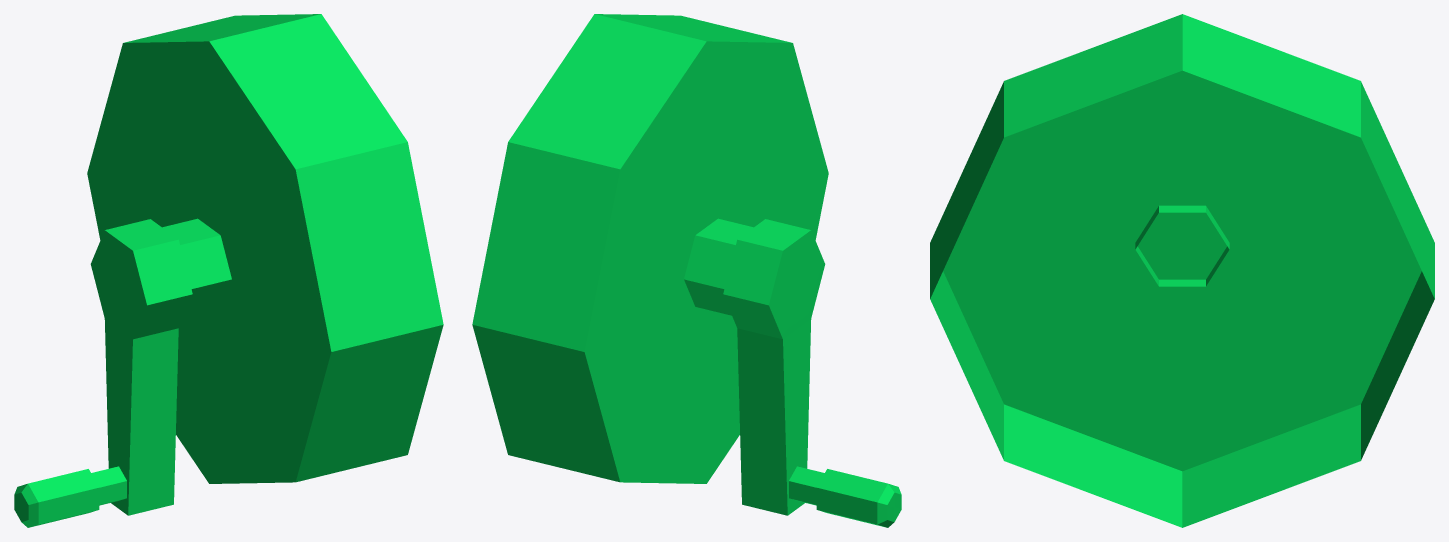
File: SM_Manivel.fbx
3 views of the same model, side by side, from view 1: azimuth 30°, elevation 25°; view 2: azimuth 150°, elevation 25°; view 3: azimuth 270°, elevation 25° (orthographic). The views are drawn at different scales.
Visible parts, largest first — view 1: polySurface3, pasted__pCylinder7; view 2: polySurface3, pasted__pCylinder7; view 3: polySurface3, pasted__pCylinder7.
Boxes of the visible parts, bbox=[...] form: polySurface3: bbox=[87, 14, 443, 483]; pasted__pCylinder7: bbox=[14, 218, 231, 527]; polySurface3: bbox=[472, 14, 828, 483]; pasted__pCylinder7: bbox=[684, 218, 901, 527]; polySurface3: bbox=[930, 14, 1434, 527]; pasted__pCylinder7: bbox=[1135, 205, 1229, 286].
Bounding box in the file's own units: 0.3934 × 0.5581 × 0.5545.
